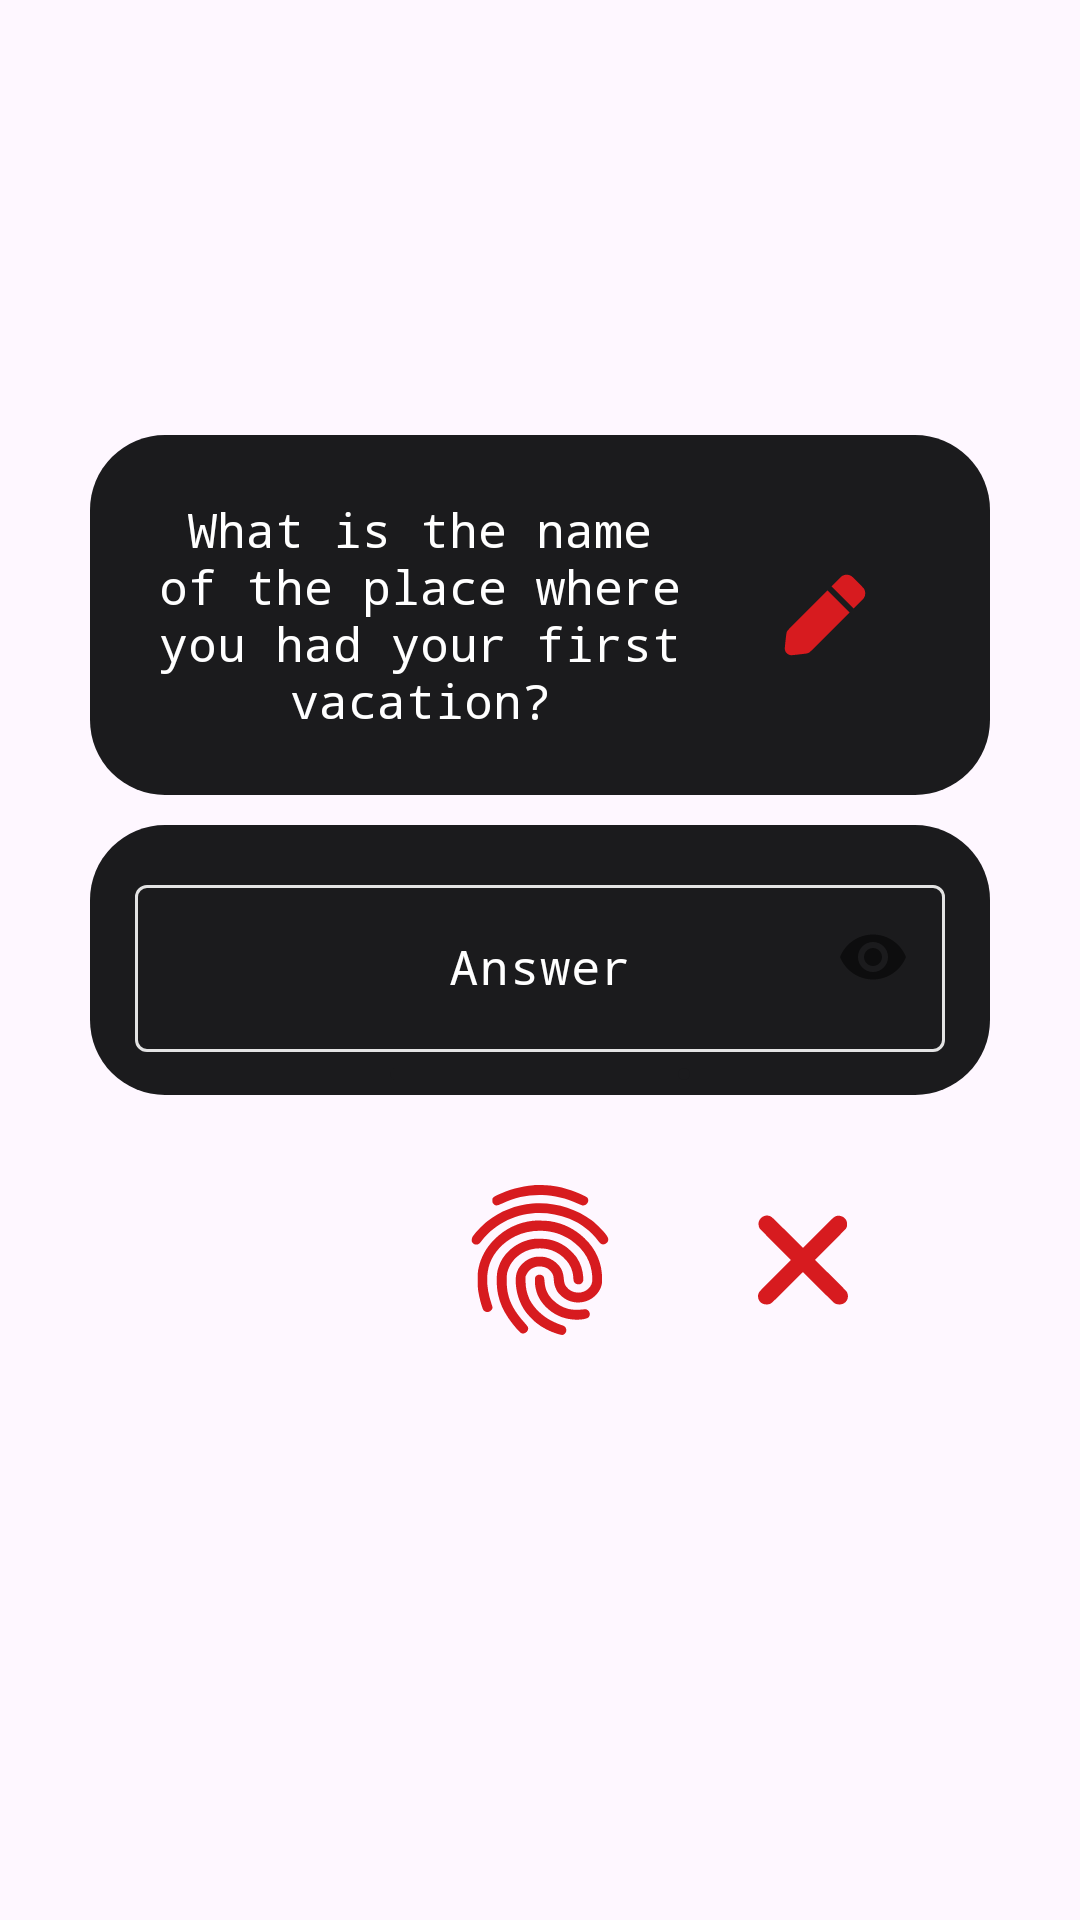

Screen size 1080×1920. Icon name, then its box in pixels as Rect(x1, y1, x2, y2):
close: Rect(758, 1215, 848, 1305)
edit: Rect(784, 574, 866, 656)
fingerprint: Rect(471, 1185, 609, 1335)
